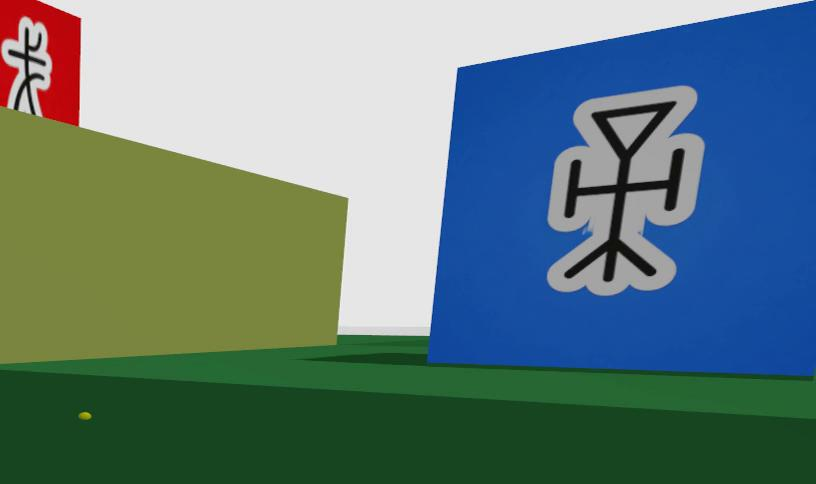KFS_FAKE: (0, 0, 80, 124), (2, 17, 52, 115)
KFS_REAL: (428, 2, 815, 376), (546, 86, 704, 295)
